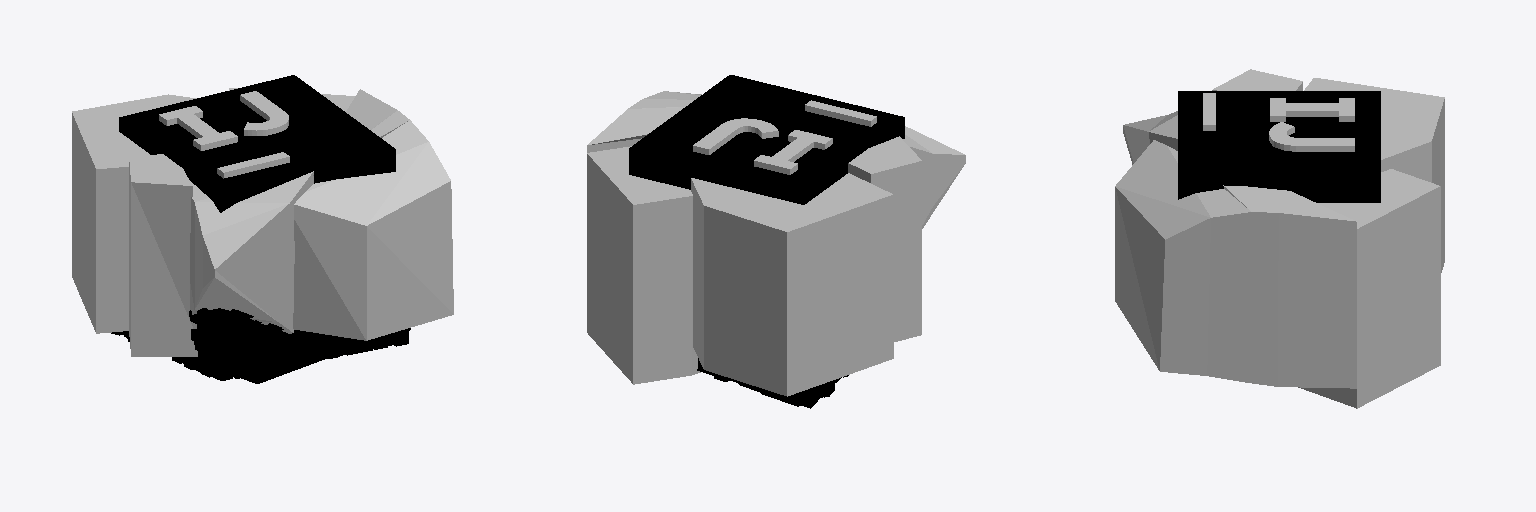
Rendered from intellij.obj.
The picture shows the model from 3 angles: view 1: azimuth 30°, elevation 25°; view 2: azimuth 150°, elevation 25°; view 3: azimuth 270°, elevation 25°; orthographic projection.
Visible parts, largest first — view 1: Cube.018; view 2: Cube.018; view 3: Cube.018.
Boxes of the visible parts, <box> form: Cube.018: <box>72,75,453,383</box>; Cube.018: <box>587,75,965,408</box>; Cube.018: <box>1115,69,1444,408</box>.
Size of the model in its own units: 1.41 by 1.21 by 1.41.